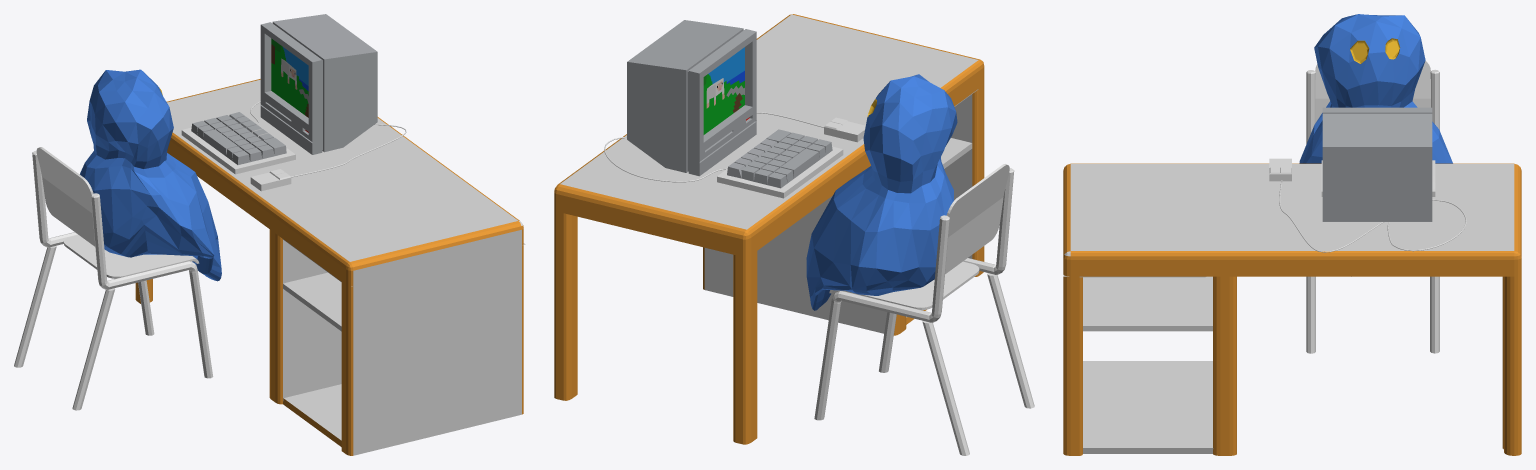
The model's file is desk2.glb.
3 views of the same model, side by side, from view 1: azimuth 30°, elevation 25°; view 2: azimuth 150°, elevation 25°; view 3: azimuth 270°, elevation 25° (orthographic). The views are drawn at different scales.
Visible parts, largest first — view 1: Cube, Icosphere, Cube.006, Cylinder.002, Cube.008, Cube.007; view 2: Cube, Icosphere, Cube.006, Cylinder.002, Cube.008, Cube.007; view 3: Cube, Cube.006, Icosphere, Cylinder.002, Cube.007, BézierCurve.001.
Part boxes in pixels (x1,y1,x2,y2): Cube: (135,79,525,455); Icosphere: (80,69,221,281); Cube.006: (260,14,377,154); Cylinder.002: (14,147,213,410); Cube.008: (181,112,295,174); Cube.007: (250,169,291,191); Cube: (554,14,984,444); Icosphere: (806,74,957,310); Cube.006: (627,20,756,176); Cylinder.002: (814,164,1034,455); Cube.008: (717,129,843,198); Cube.007: (824,117,865,142); Cube: (1063,163,1521,455); Cube.006: (1322,107,1432,221); Icosphere: (1299,14,1452,163); Cylinder.002: (1306,61,1439,353); Cube.007: (1269,158,1291,181); BézierCurve.001: (1279,180,1466,252).
Size of the model in its own units: 3.39 by 2.82 by 3.75.
